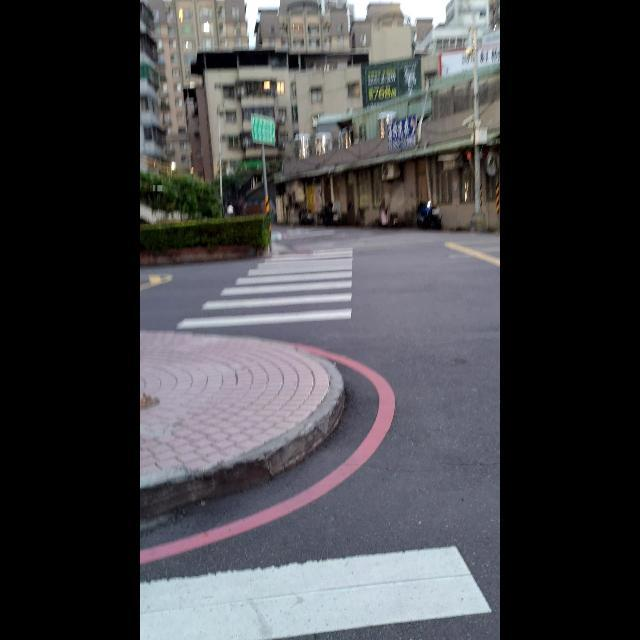sidewalk: (141, 243, 500, 640)
